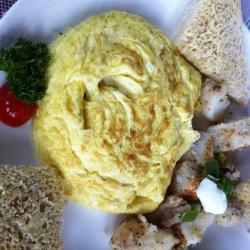bread: (179, 1, 250, 104), (2, 161, 69, 249)
omelette: (43, 15, 191, 207)
salad: (2, 40, 53, 101)
